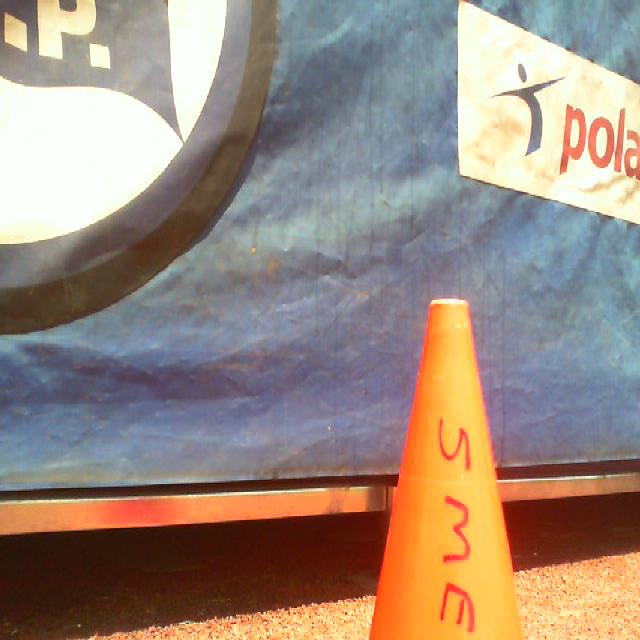cone: (369, 300, 523, 640)
